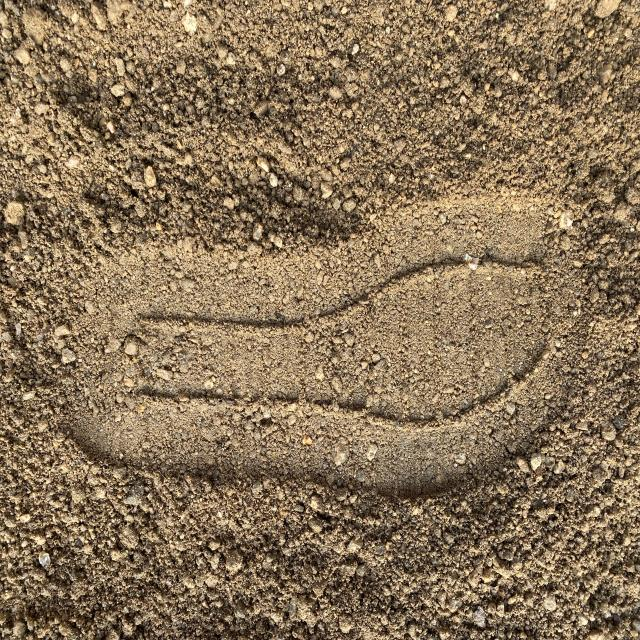human_foot_print: (29, 133, 616, 537)
